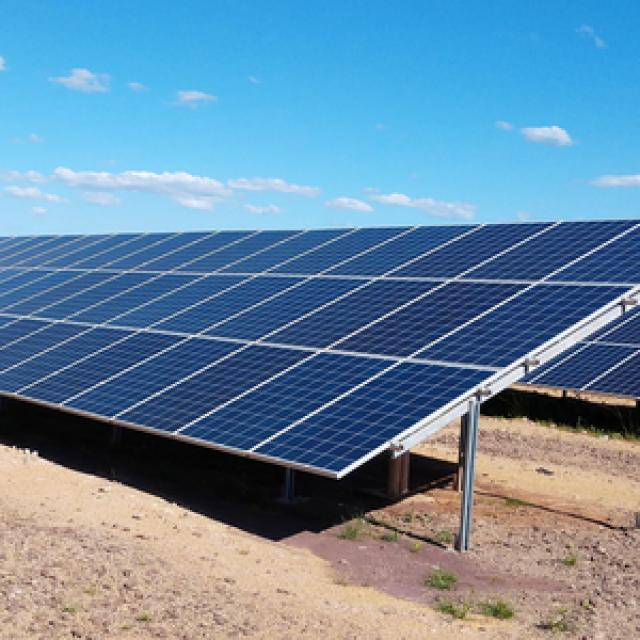clean-solar-panel: (0, 220, 640, 478)
